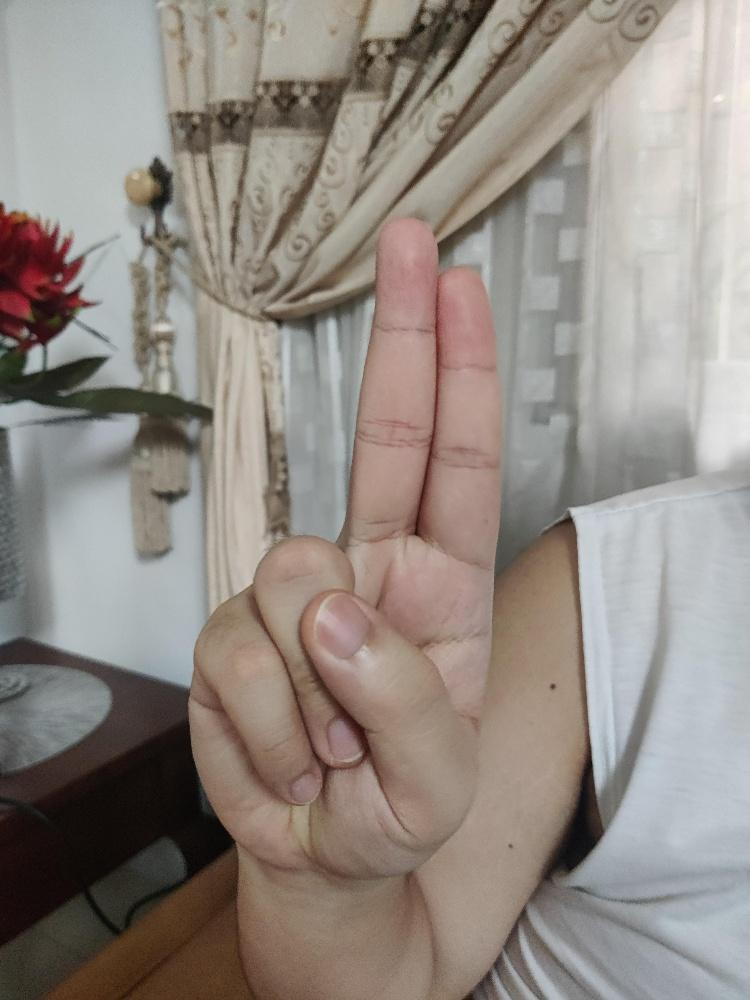u: (184, 214, 503, 880)
